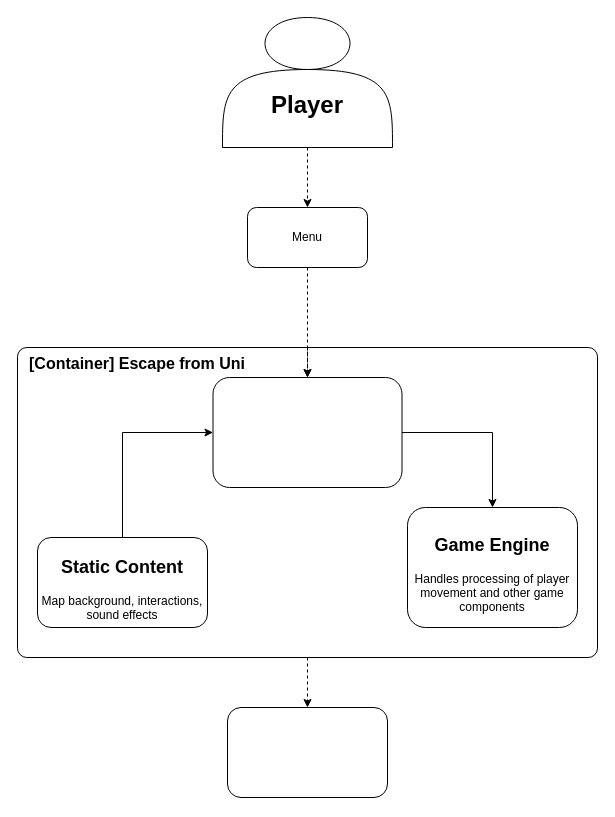
This 615x817 diagram has some shape labels left out. The centre of each missing label's shape, as x and y in pixels:
Player sprite Controllable sprite, interacts with events and objects: [307,432]
Timer 5 minute timer, the player loses if they run out of time: [307,752]
